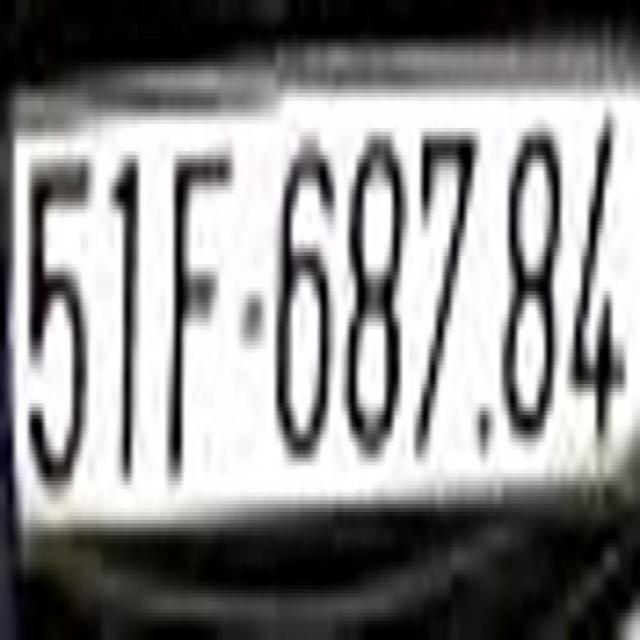1: (108, 140, 143, 484)
4: (572, 113, 624, 473)
5: (27, 120, 93, 528)
6: (275, 105, 335, 469)
7: (416, 101, 481, 458)
8: (498, 93, 560, 454), (346, 101, 404, 469)
F: (166, 143, 230, 481)
